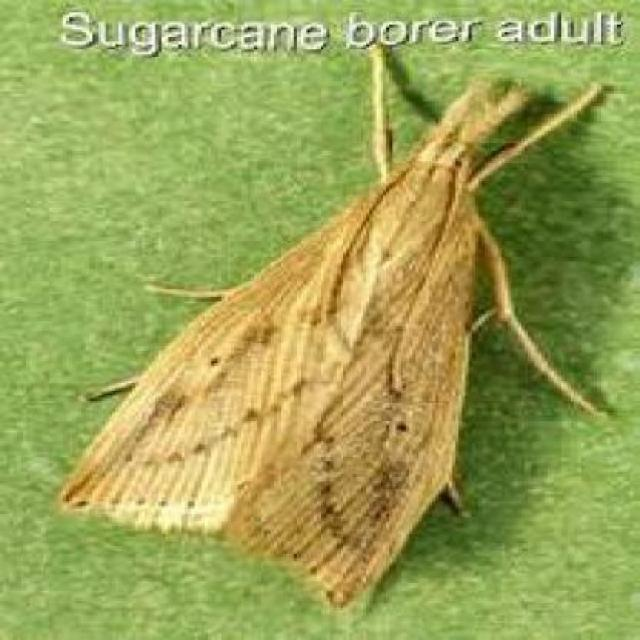stem-borer: (48, 69, 615, 617)
